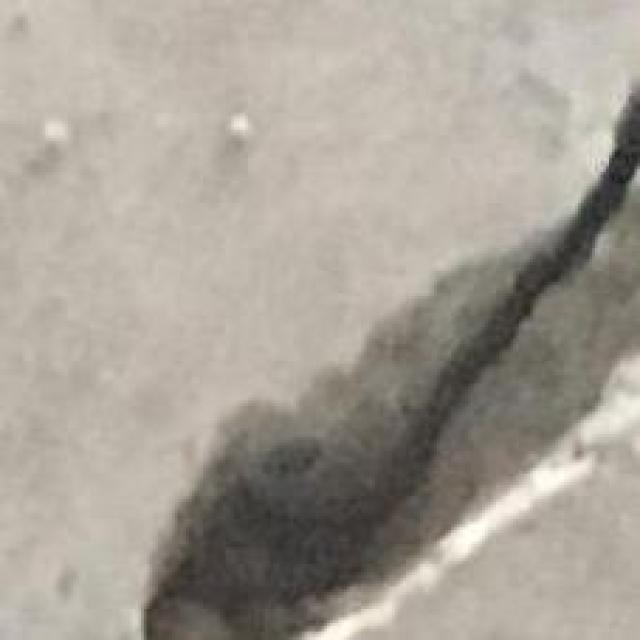diagonal crack: (143, 87, 639, 639)
